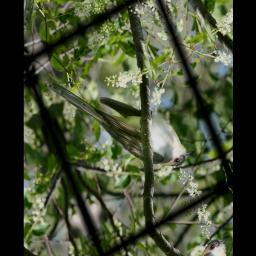Cuckoo: (42, 21, 199, 215)
